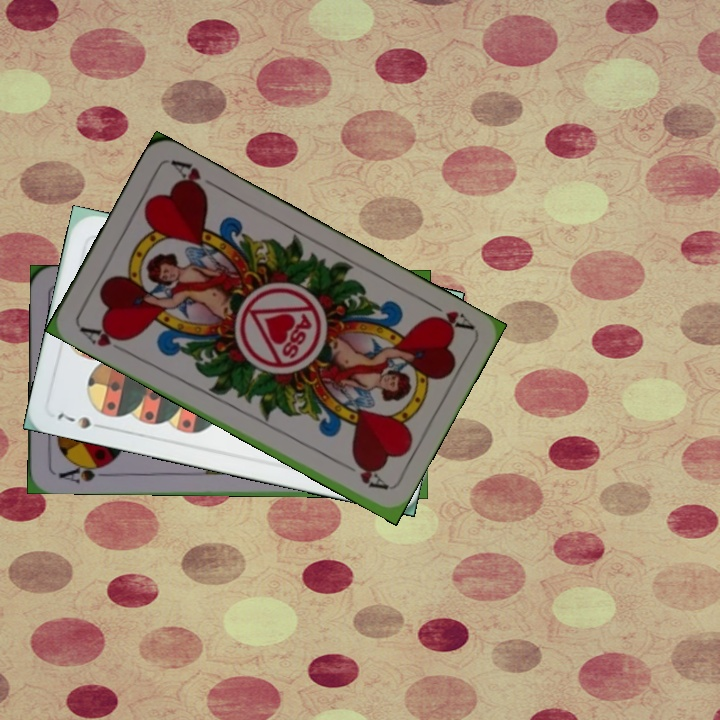HA: (421, 296, 476, 335), (75, 322, 130, 356)
S7: (53, 408, 110, 432)
SA: (55, 458, 111, 486)
